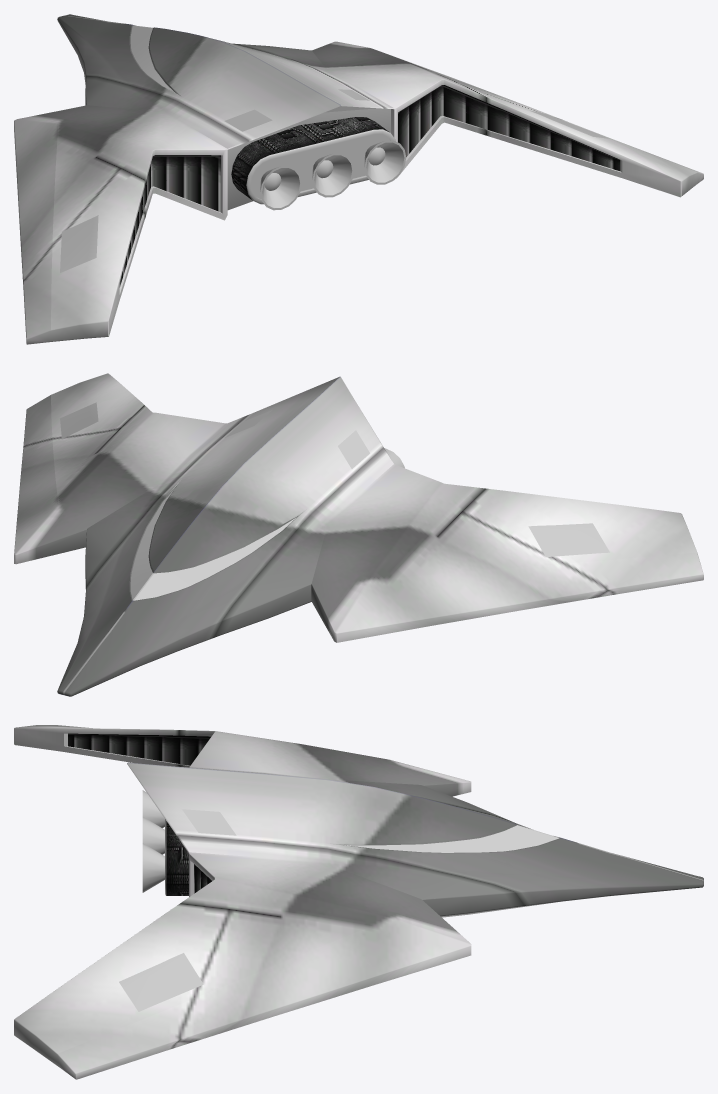
3 renders of one model, top to bottom at view 1: azimuth 30°, elevation 25°; view 2: azimuth 150°, elevation 25°; view 3: azimuth 270°, elevation 25°, orthographic. The views are drawn at different scales.
Parts seen in each view (by area): view 1: 34_magicseagull_a; view 2: 34_magicseagull_a; view 3: 34_magicseagull_a.
Boxes of the visible parts, x1,y1,x2,y2 form: 34_magicseagull_a: (14, 14, 703, 344); 34_magicseagull_a: (14, 373, 703, 696); 34_magicseagull_a: (14, 725, 703, 1079).
Size of the model in its own units: 2.67 by 0.524 by 2.26.
